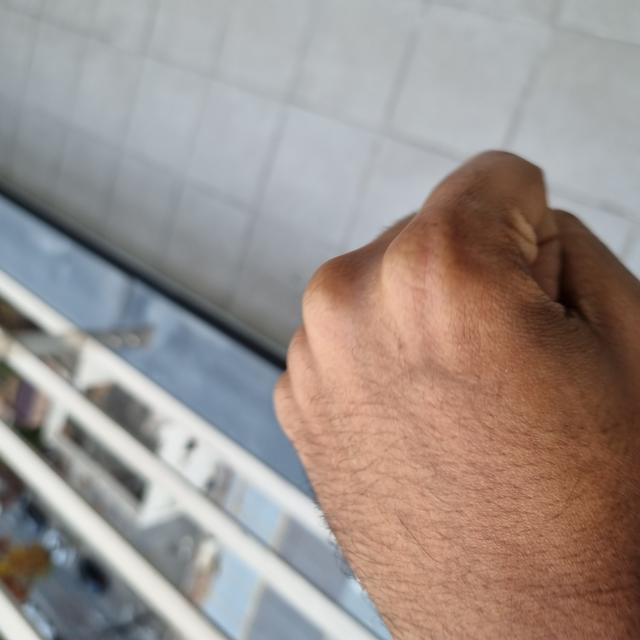Rock: (0, 273, 488, 639)
